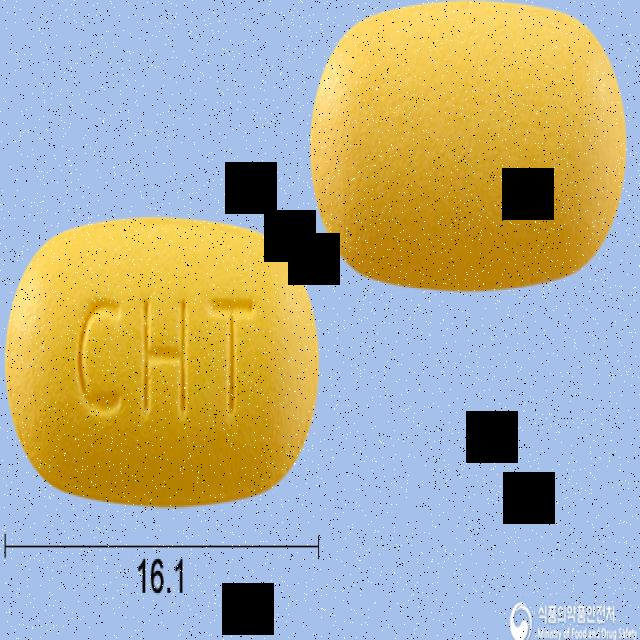Croracin: (6, 215, 321, 505)
